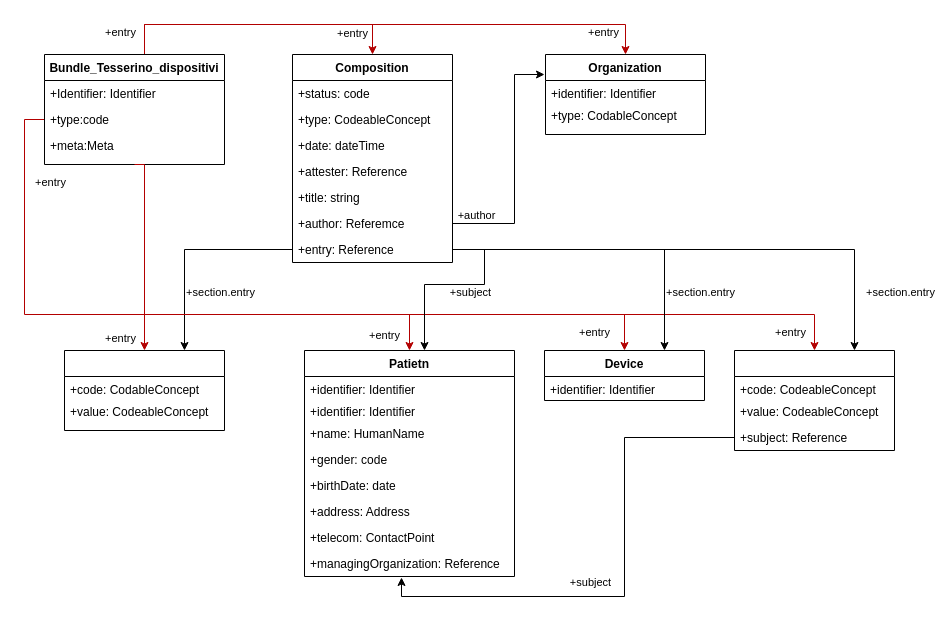
The diagram is 952 pixels wide and 622 high, and some of its shapes have lost their labels. The shapes that lost their labels are listed below. From the top down, each one's box as (x1, y1, x2, y2) in pixels, then its label:
(64, 350, 224, 430): Procedure
(734, 350, 894, 450): Condition
